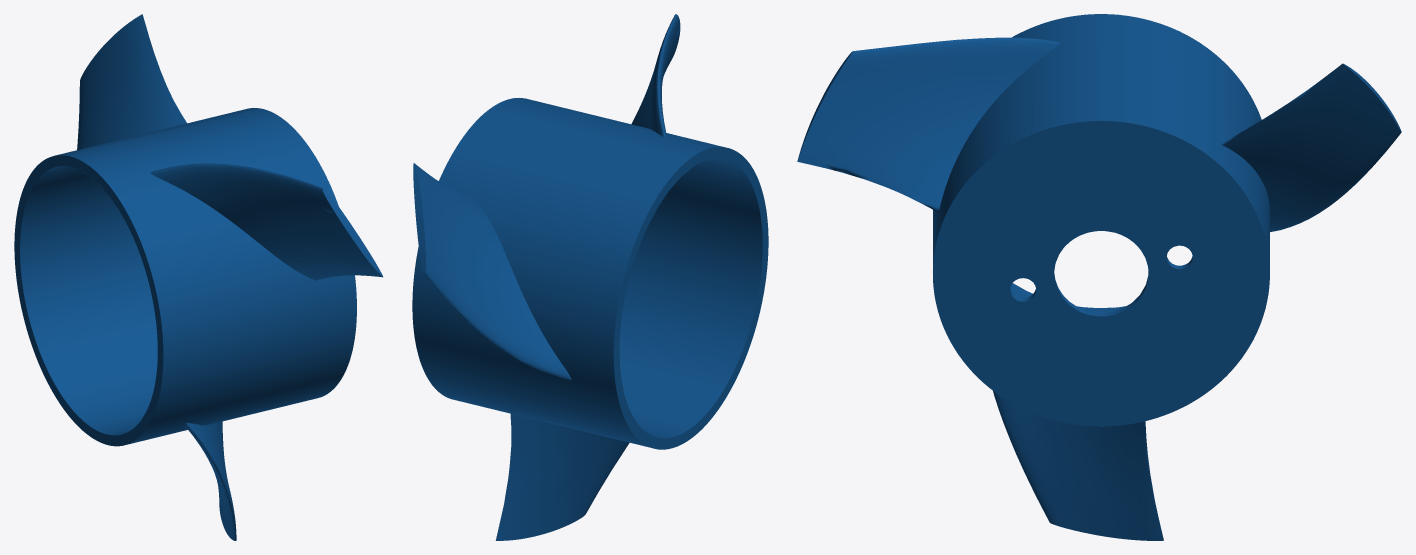
File: Propeller.dae
3 views of the same model, side by side, from view 1: azimuth 30°, elevation 25°; view 2: azimuth 150°, elevation 25°; view 3: azimuth 270°, elevation 25° (orthographic). The views are drawn at different scales.
Parts seen in each view (by area): view 1: Blue_ROV_Propeller; view 2: Blue_ROV_Propeller; view 3: Blue_ROV_Propeller.
Part boxes in pixels (x1=…): Blue_ROV_Propeller: x1=14, y1=14, x2=382, y2=540; Blue_ROV_Propeller: x1=412, y1=14, x2=768, y2=540; Blue_ROV_Propeller: x1=797, y1=14, x2=1401, y2=540.
Bounding box in the file's own units: 3 × 6.32 × 7.17.
